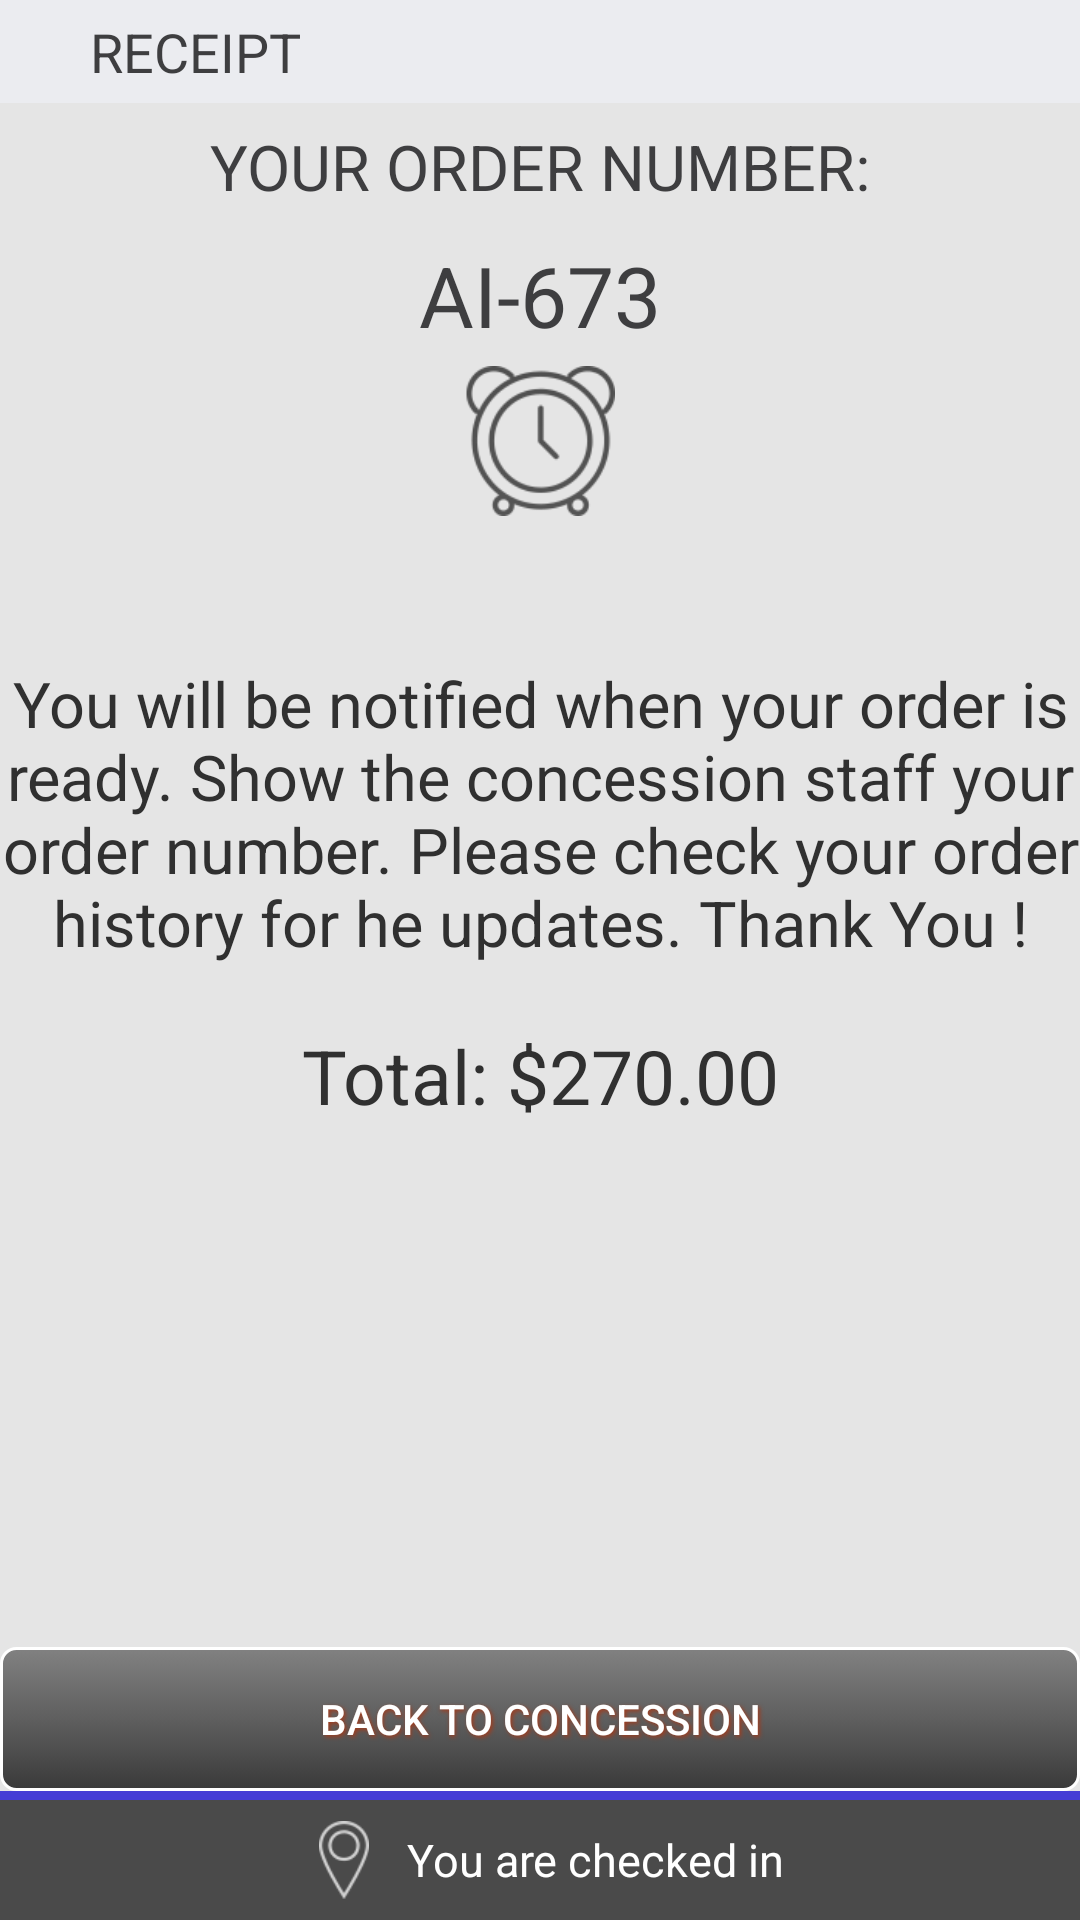

Icons on this 1080x1920 Android screen, each with the point to tap as [x,y]:
time: [540,441]
